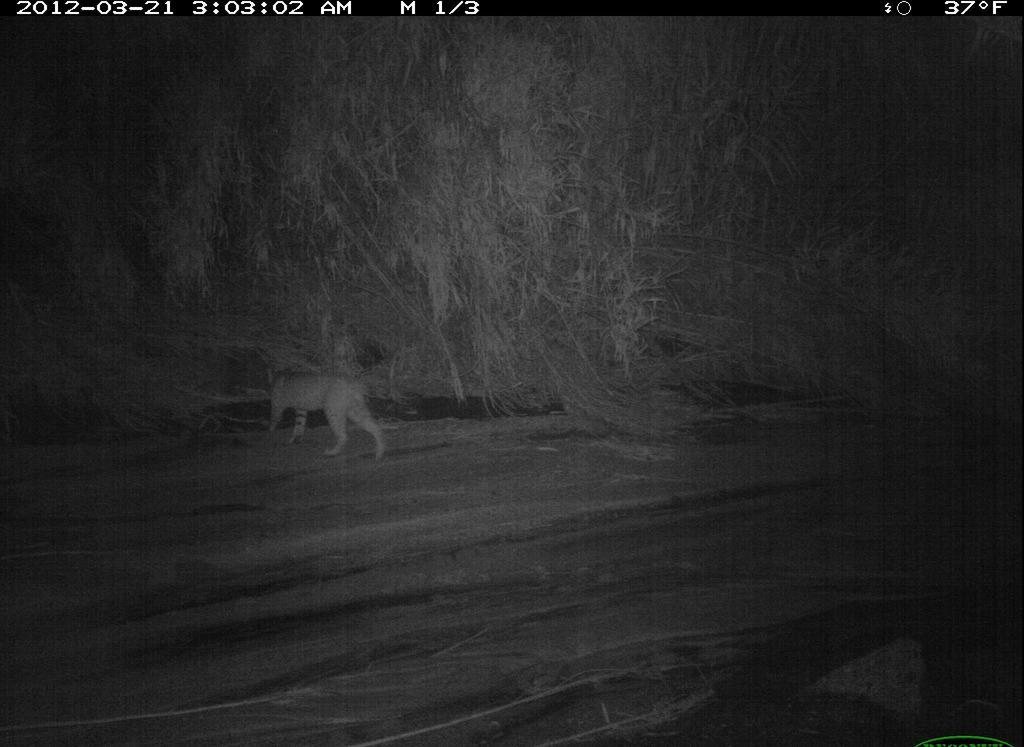bobcat: (250, 353, 393, 466)
